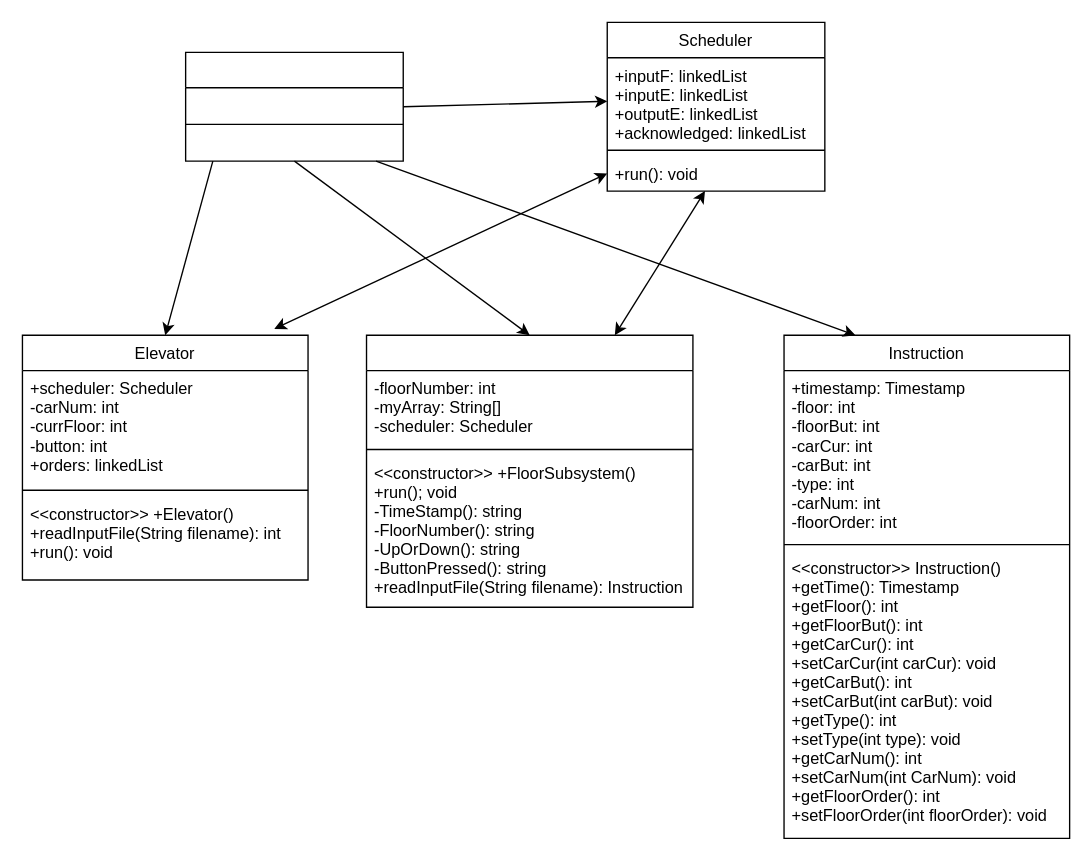
The diagram is 1092 pixels wide and 861 high, and some of its shapes have lost their labels. The box of each missing label's shape, as (x1, y1, x2, y2) in pixels:
FloorSubsytem: (365, 334, 693, 607)
Start: (184, 51, 403, 161)
